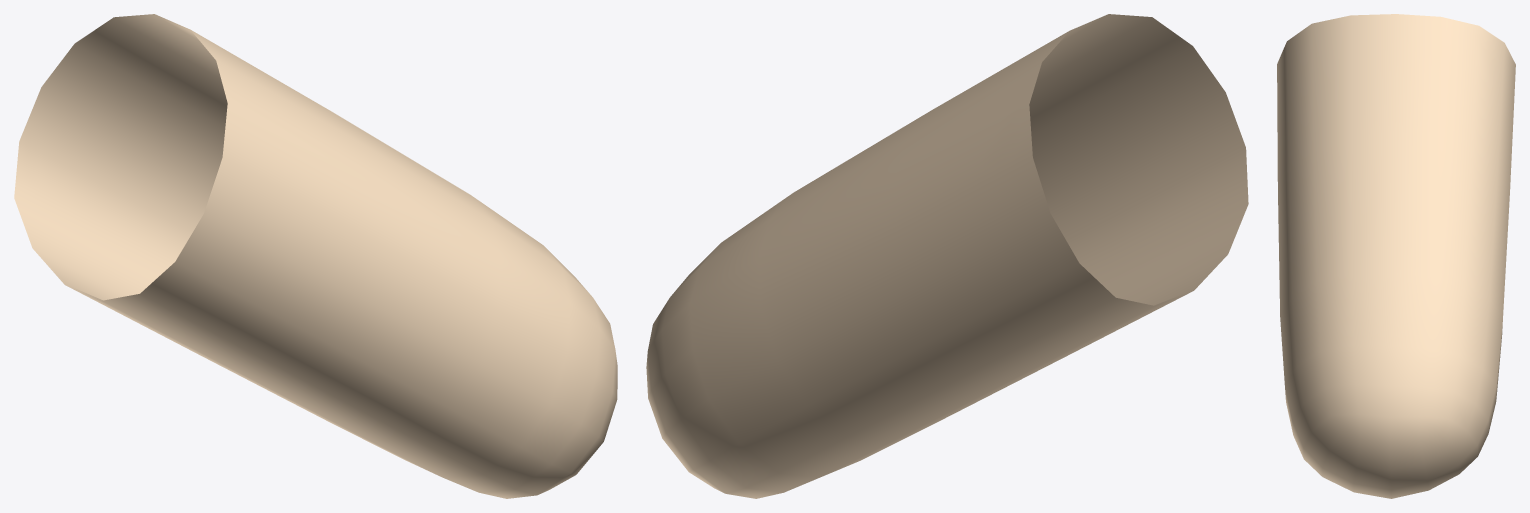
The model's file is CH01_Player_FirstPerson_Right_V02.fbx.
3 renders of one model, left to right at view 1: azimuth 30°, elevation 25°; view 2: azimuth 150°, elevation 25°; view 3: azimuth 270°, elevation 25°, orthographic. The views are drawn at different scales.
Parts seen in each view (by area): view 1: pasted__Arm_1; view 2: pasted__Arm_1; view 3: pasted__Arm_1.
Part boxes in pixels (x1,y1,x2,y2): pasted__Arm_1: [14, 14, 617, 498]; pasted__Arm_1: [646, 14, 1248, 498]; pasted__Arm_1: [1277, 14, 1515, 498].
Bounding box in the file's own units: 4.11 × 3.88 × 2.25.
